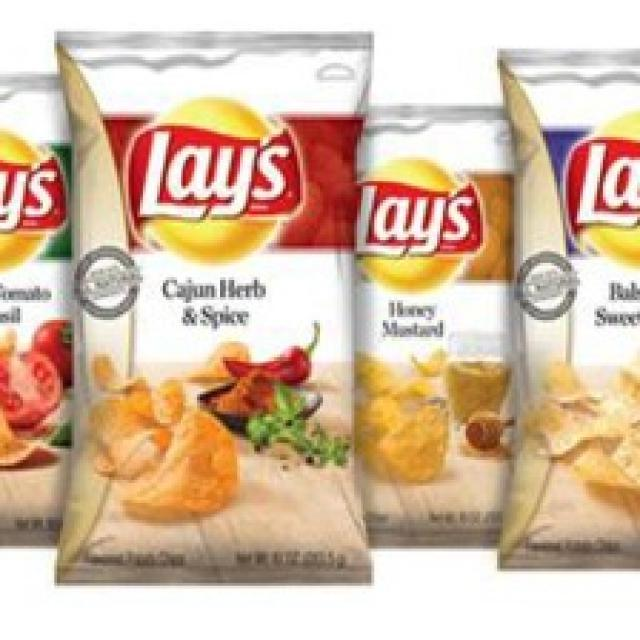plastic: (40, 25, 383, 588), (501, 50, 640, 571), (358, 105, 511, 546), (1, 89, 65, 547)
